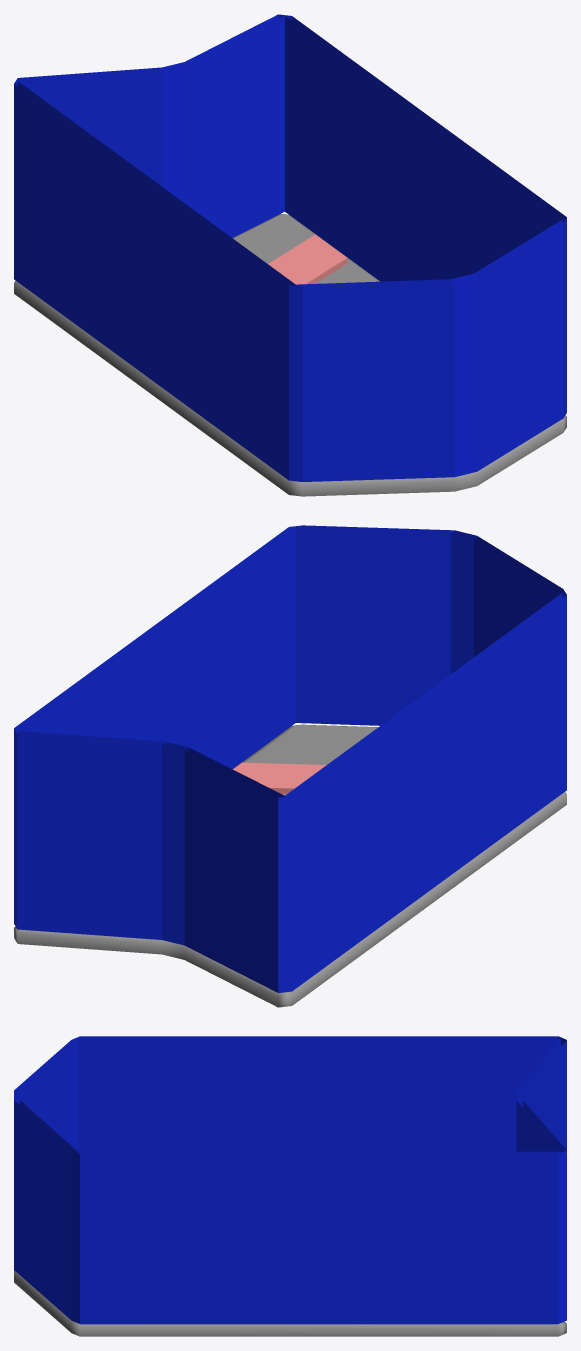
Rendered from BoostPad.fbx.
3 renders of one model, top to bottom at view 1: azimuth 30°, elevation 25°; view 2: azimuth 150°, elevation 25°; view 3: azimuth 270°, elevation 25°, orthographic. The views are drawn at different scales.
Visible parts, largest first — view 1: BoostPad; view 2: BoostPad; view 3: BoostPad.
Part boxes in pixels (bbox=[...]): BoostPad: bbox=[14, 14, 566, 496]; BoostPad: bbox=[14, 525, 566, 1007]; BoostPad: bbox=[14, 1036, 566, 1336].
Bounding box in the file's own units: 396 × 286 × 784.
